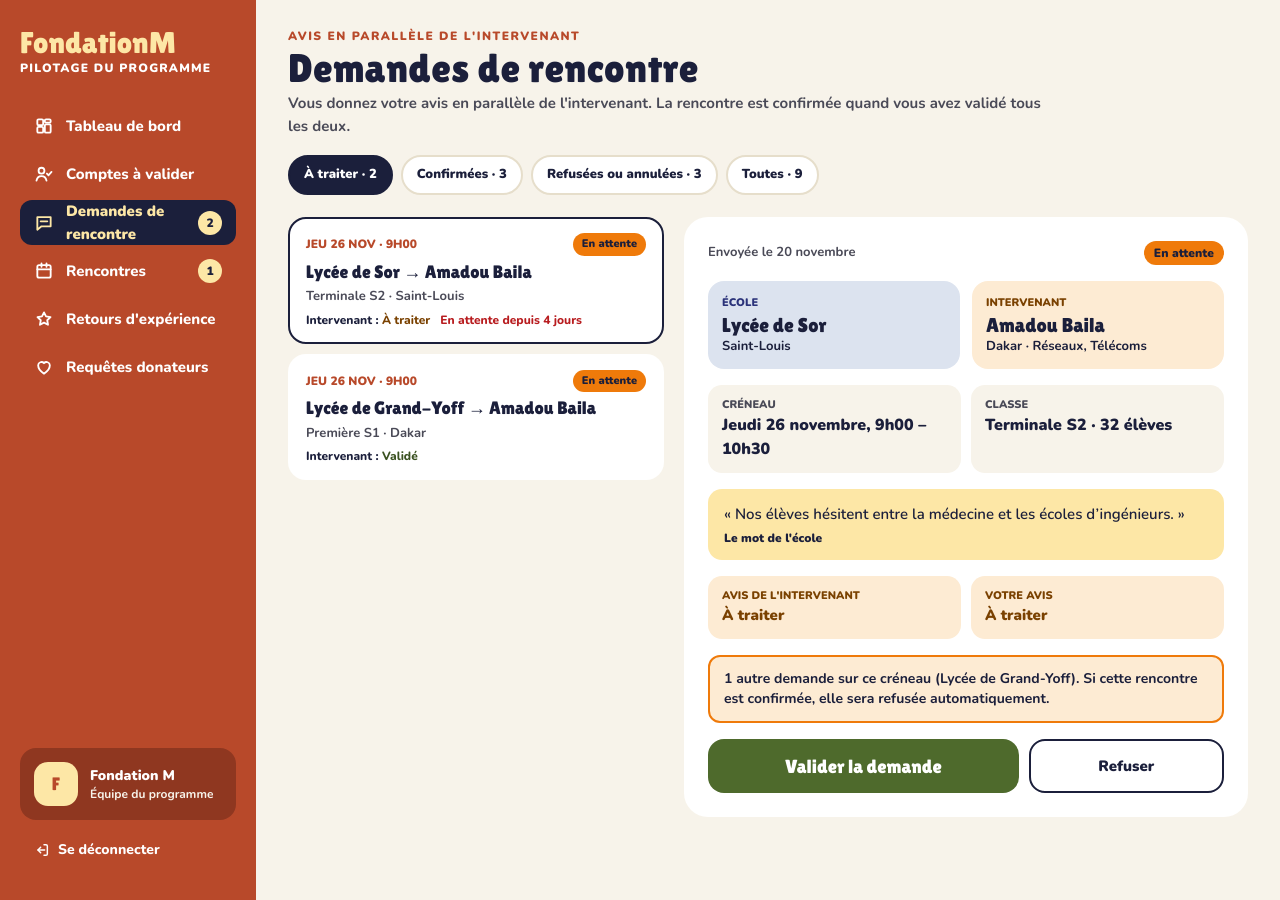
Demandes de rencontre (Fondation) › affiche l’erreur du serveur à la validation ({"code":"INVALID_STATUS_TRANSITION","message":"x"})
Click the button "Valider la demande". click: [863, 766]
box: top-left (708, 739), bottom-right (1019, 793)
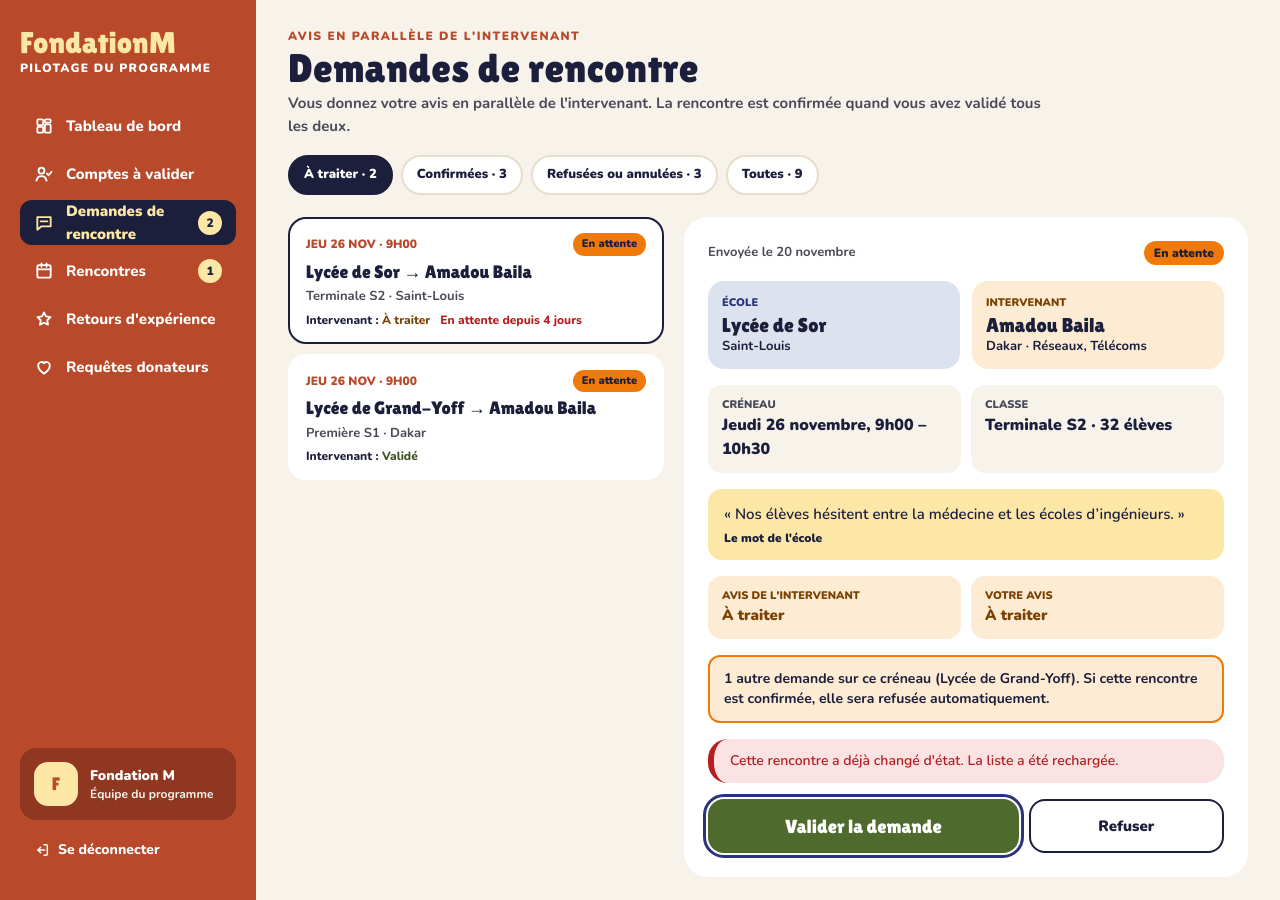
expect the message "Cette rencontre a déjà changé d'état. La liste a été rechargée." is shown: met, box top-left (708, 739), bottom-right (1224, 783)
